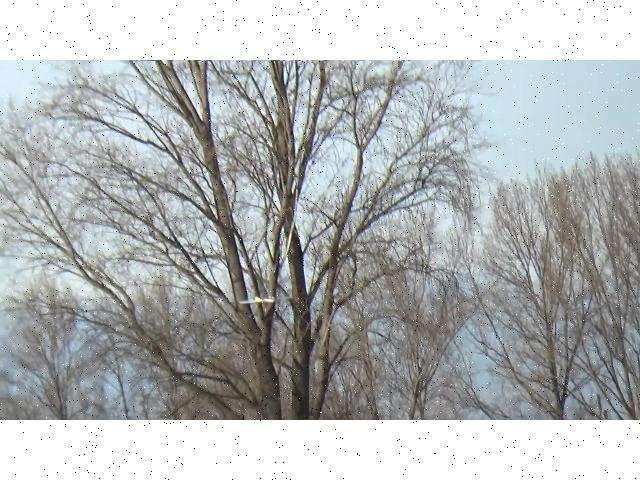Anti-Drone: (239, 298, 293, 304)
